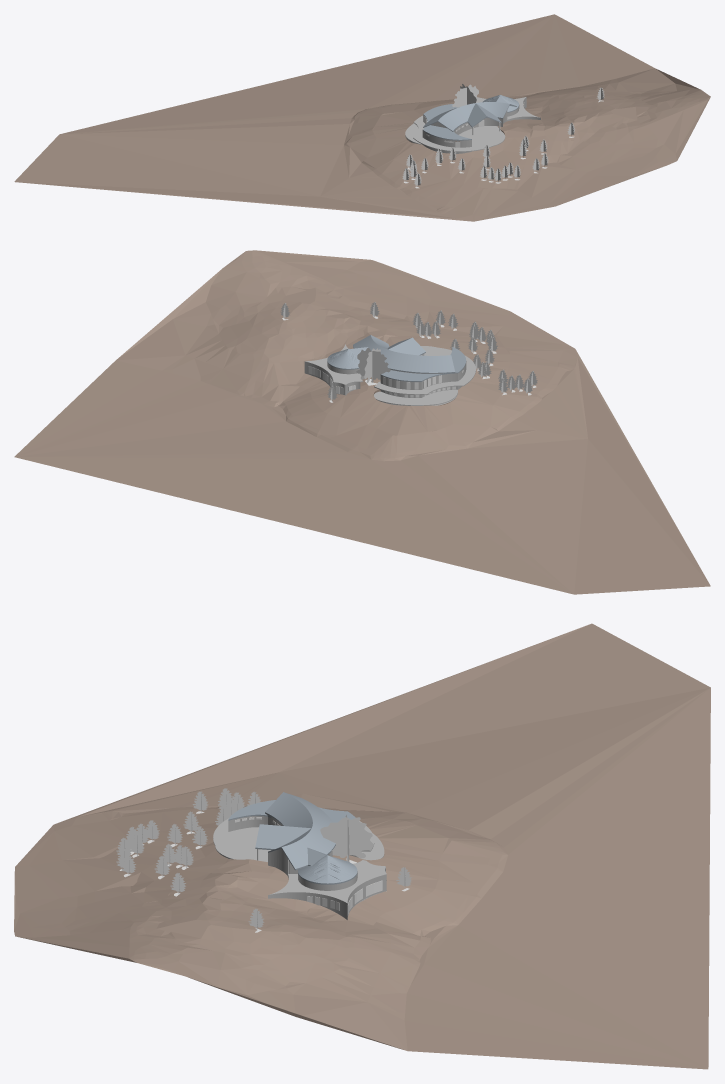
File: Alabama-model-blender-version3 (1).glb
3 renders of one model, top to bottom at view 1: azimuth 30°, elevation 25°; view 2: azimuth 150°, elevation 25°; view 3: azimuth 270°, elevation 25°, orthographic. The views are drawn at different scales.
Parts seen in each view (by area): view 1: Surface:369717, Floor:Generic - 12":383197, SWEEPING ROOF:SWEEPING ROOF:390099, Basic Roof:Generic - 12":384592, RPC Tree - Deciduous:Scarlet Oak - 42':396930, Basic Roof:Generic - 12":385381; view 2: Surface:369717, SWEEPING ROOF:SWEEPING ROOF:390099, Floor:Generic - 12":383197, Floor:Generic - 12":382579, RPC Tree - Deciduous:Scarlet Oak - 42':396930, Basic Roof:Generic - 12":384592; view 3: Surface:369717, Floor:Generic - 12":383197, SWEEPING ROOF:SWEEPING ROOF:390099, RPC Tree - Deciduous:Scarlet Oak - 42':396930, Basic Roof:Generic - 12":383612, Basic Roof:Generic - 12":385381.
Boxes of the visible parts, x1,y1,x2,y2 form: Surface:369717: (14,14,710,221); Floor:Generic - 12":383197: (413,97,540,151); SWEEPING ROOF:SWEEPING ROOF:390099: (423,102,516,131); Basic Roof:Generic - 12":384592: (423,104,471,140); RPC Tree - Deciduous:Scarlet Oak - 42':396930: (452,84,478,107); Basic Roof:Generic - 12":385381: (467,103,501,127); Surface:369717: (14,250,710,594); SWEEPING ROOF:SWEEPING ROOF:390099: (353,335,455,373); Floor:Generic - 12":383197: (304,344,475,394); Floor:Generic - 12":382579: (374,389,457,405); RPC Tree - Deciduous:Scarlet Oak - 42':396930: (356,348,390,385); Basic Roof:Generic - 12":384592: (380,347,466,381); Surface:369717: (14,623,710,1069); Floor:Generic - 12":383197: (213,818,386,904); SWEEPING ROOF:SWEEPING ROOF:390099: (265,792,335,870); RPC Tree - Deciduous:Scarlet Oak - 42':396930: (320,815,373,863); Basic Roof:Generic - 12":383612: (298,855,357,884); Basic Roof:Generic - 12":385381: (255,824,310,850).
Bounding box in the file's own units: 261 × 26.3 × 171.
